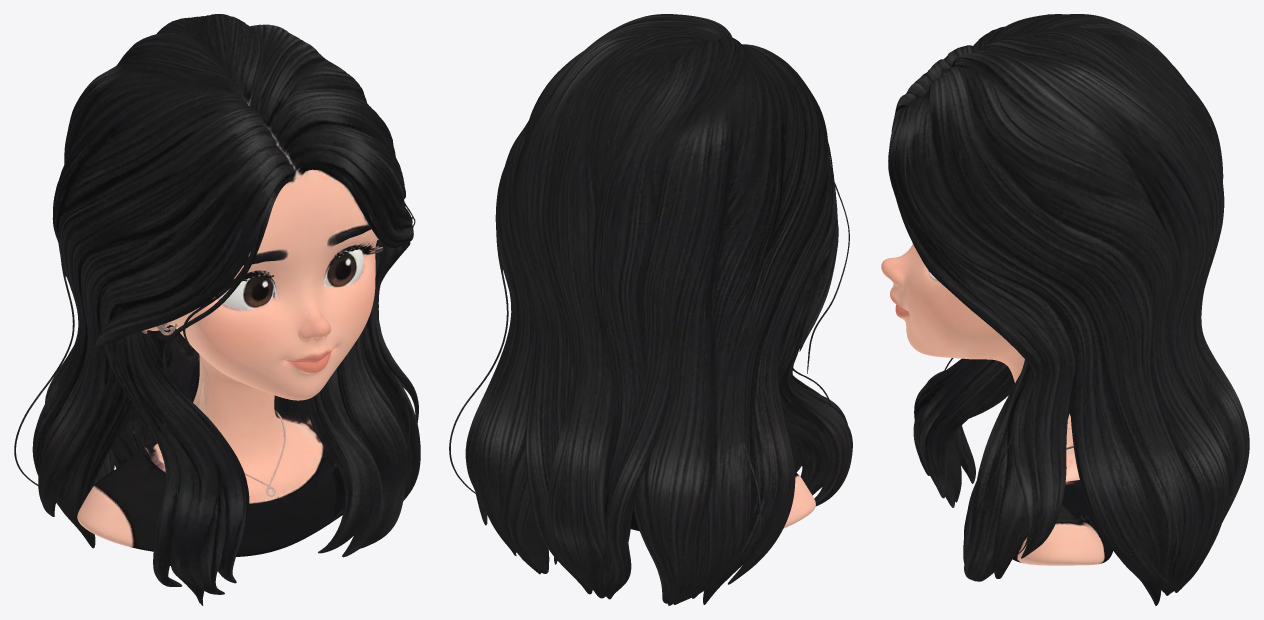
Rendered from youran.glb.
3 views of the same model, side by side, from view 1: azimuth 30°, elevation 25°; view 2: azimuth 150°, elevation 25°; view 3: azimuth 270°, elevation 25° (orthographic). The views are drawn at different scales.
Parts seen in each view (by area): view 1: mesh_node; view 2: mesh_node; view 3: mesh_node.
Part boxes in pixels (x1=…): mesh_node: x1=14, y1=14, x2=420, y2=605; mesh_node: x1=449, y1=14, x2=852, y2=605; mesh_node: x1=881, y1=14, x2=1249, y2=605.
Size of the model in its own units: 1.21 by 1.9 by 1.18.
Materials: 1 (1 with a texture image).
